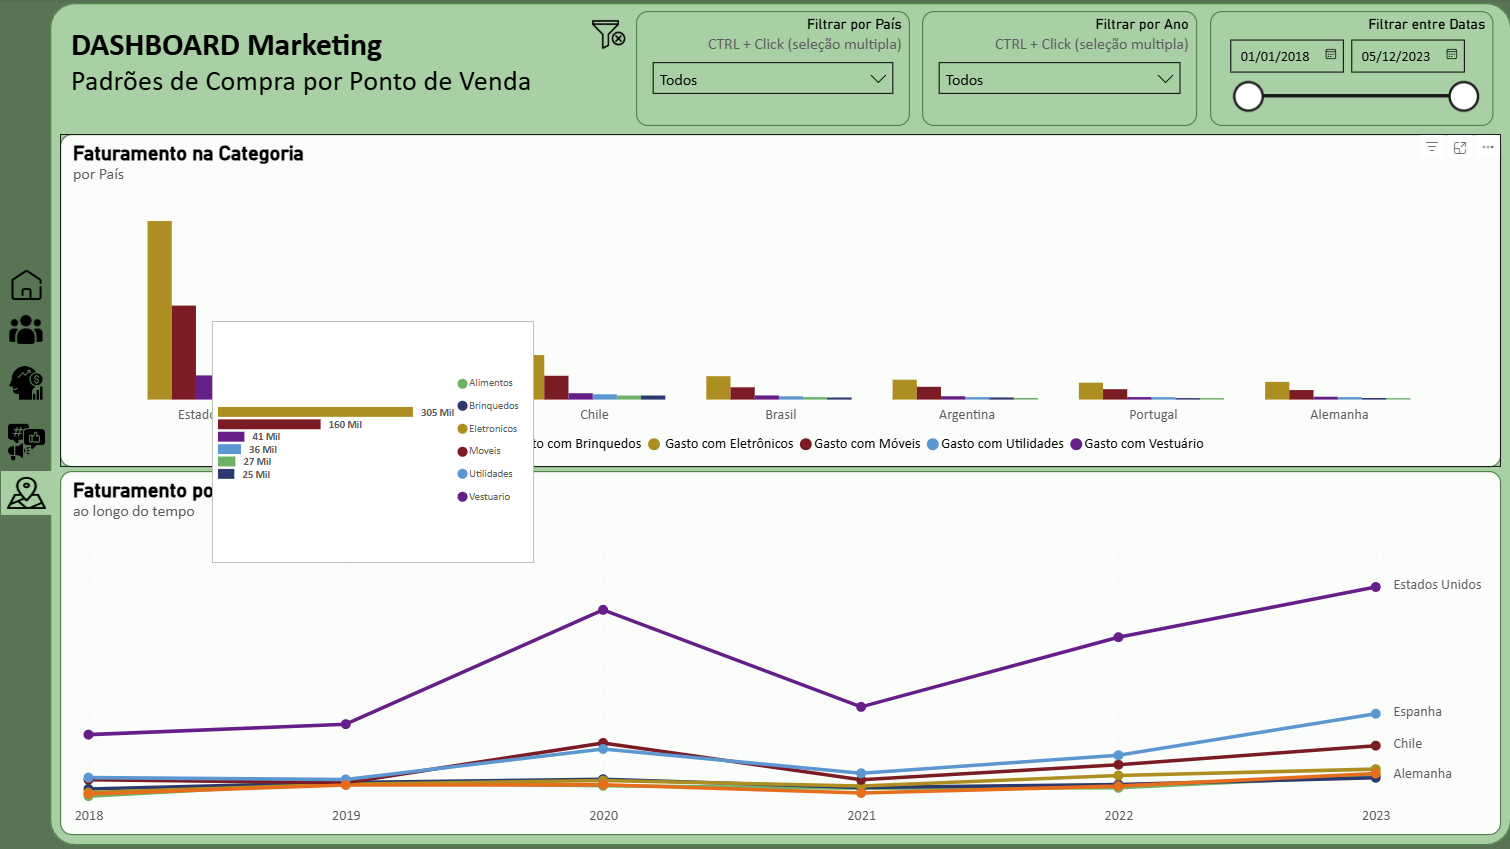

Layout of this report page (visuals, bound fields, positions):
{"tool":"powerbi","page":{"name":"Visão Pontos de Venda","canvas":[1280,720],"ordinal":4},"visuals":[{"type":"group","id":"g1","title":"Grupo 1","box":[48.2,4.5,1231.8,710],"z":0},{"type":"shape","box":[48.2,4.5,1231.8,710],"z":0,"group":"g1"},{"type":"textbox","box":[60.8,17.6,472.7,73.6],"z":1000,"group":"g1"},{"type":"clusteredColumnChart","title":"Faturamento na Categoria","fields":{"Category":["Dados_Marketing.Pais"],"Y":["Sum(Dados_Marketing.Gasto com Alimentos)","Sum(Dados_Marketing.Gasto com Brinquedos)","Sum(Dados_Marketing.Gasto com Eletronicos)","Sum(Dados_Marketing.Gasto com Moveis)","Sum(Dados_Marketing.Gasto com Utilidades)","Sum(Dados_Marketing.Gasto com Vestuario)"]},"box":[56.3,114.5,1215.5,280.9],"z":1000},{"type":"lineChart","title":"Faturamento por País","fields":{"Y":["Dados_Marketing.Total_Gasto"],"Category":["Dados_Marketing.Data Cadastro.Variation.Hierarquia de datas.Ano"],"Series":["Dados_Marketing.Pais"]},"box":[56.3,399.1,1215.5,307.3],"z":2000},{"type":"group","id":"g2","title":"Grupo 5","box":[7,223.6,42.7,212.7],"z":3000},{"type":"image","box":[7,398.9,42.7,37.3],"z":3000,"group":"g3"},{"type":"slicer","title":"Filtrar por Ano","fields":{"Values":["Dados_Marketing.Data Cadastro.Variation.Hierarquia de datas.Ano"]},"box":[783.7,10.9,231.8,97.3],"z":4000,"group":"g1"},{"type":"image","box":[498.9,11.9,39.8,37.8],"z":4000},{"type":"image","box":[7,260.7,42.7,38.2],"z":4000,"group":"g3"},{"type":"slicer","title":"Filtrar por País","fields":{"Values":["Dados_Marketing.Pais"]},"box":[541.8,10.9,230.9,97.3],"z":5000,"group":"g1"},{"type":"group","id":"g3","title":"Grupo 2","box":[7,260.7,42.7,175.5],"z":5000,"group":"g2"},{"type":"image","box":[7,303.4,42.7,41.8],"z":5000,"group":"g3"},{"type":"slicer","title":"Filtrar entre Datas","fields":{"Values":["Dados_Marketing.Data Cadastro"]},"box":[1026.4,10.9,239.1,97.3],"z":6000,"group":"g1"},{"type":"image","box":[7,223.6,42.6,37.2],"z":6000,"group":"g2"},{"type":"image","box":[7,349.8,42.7,48.2],"z":6000,"group":"g3"}]}

Visuals, with their boxes on the page's 1280x720 design canvas (x1, y1, x2, y2). These are canvas units, not pixel positions in the 1510x849 screenshot, which may show the page scaled, cropped or inside an application window:
"Grupo 1" group: [left=48, top=4, right=1280, bottom=714]
shape: [left=48, top=4, right=1280, bottom=714]
textbox: [left=61, top=18, right=534, bottom=91]
"Faturamento na Categoria" clusteredColumnChart: [left=56, top=114, right=1272, bottom=395]
"Faturamento por País" lineChart: [left=56, top=399, right=1272, bottom=706]
"Grupo 5" group: [left=7, top=224, right=50, bottom=436]
image: [left=7, top=399, right=50, bottom=436]
"Filtrar por Ano" slicer: [left=784, top=11, right=1016, bottom=108]
image: [left=499, top=12, right=539, bottom=50]
image: [left=7, top=261, right=50, bottom=299]
"Filtrar por País" slicer: [left=542, top=11, right=773, bottom=108]
"Grupo 2" group: [left=7, top=261, right=50, bottom=436]
image: [left=7, top=303, right=50, bottom=345]
"Filtrar entre Datas" slicer: [left=1026, top=11, right=1266, bottom=108]
image: [left=7, top=224, right=50, bottom=261]
image: [left=7, top=350, right=50, bottom=398]
